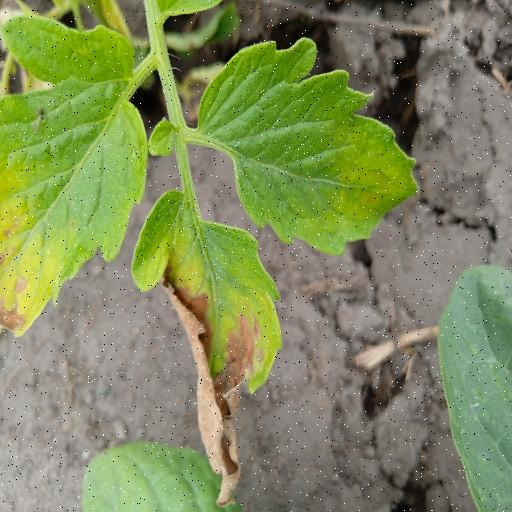Tomato_Brown_Spots: (0, 11, 154, 344), (200, 28, 421, 260), (132, 184, 287, 509)
